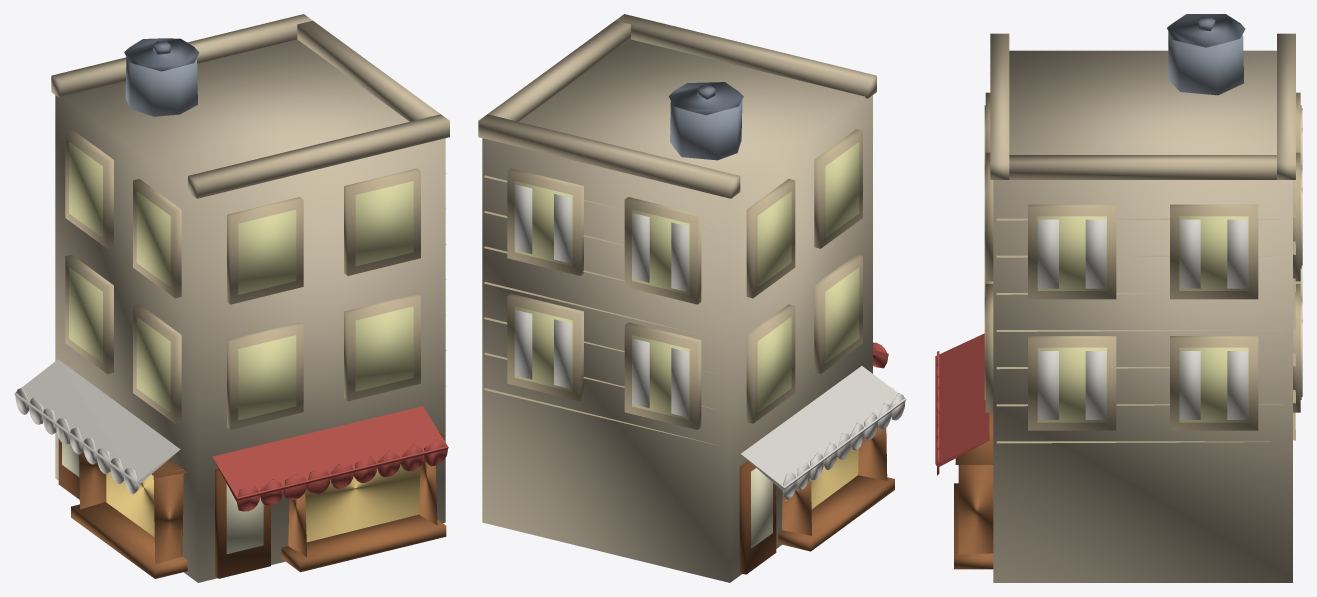
The model's file is building.glb.
3 renders of one model, left to right at view 1: azimuth 30°, elevation 25°; view 2: azimuth 150°, elevation 25°; view 3: azimuth 270°, elevation 25°, orthographic. The views are drawn at different scales.
Visible parts, largest first — view 1: building; view 2: building; view 3: building.
Boxes of the visible parts, x1,y1,x2,y2 form: building: (14, 14, 449, 582); building: (478, 14, 906, 582); building: (935, 14, 1302, 582).
Bounding box in the file's own units: 2.33 × 3.29 × 2.33.
